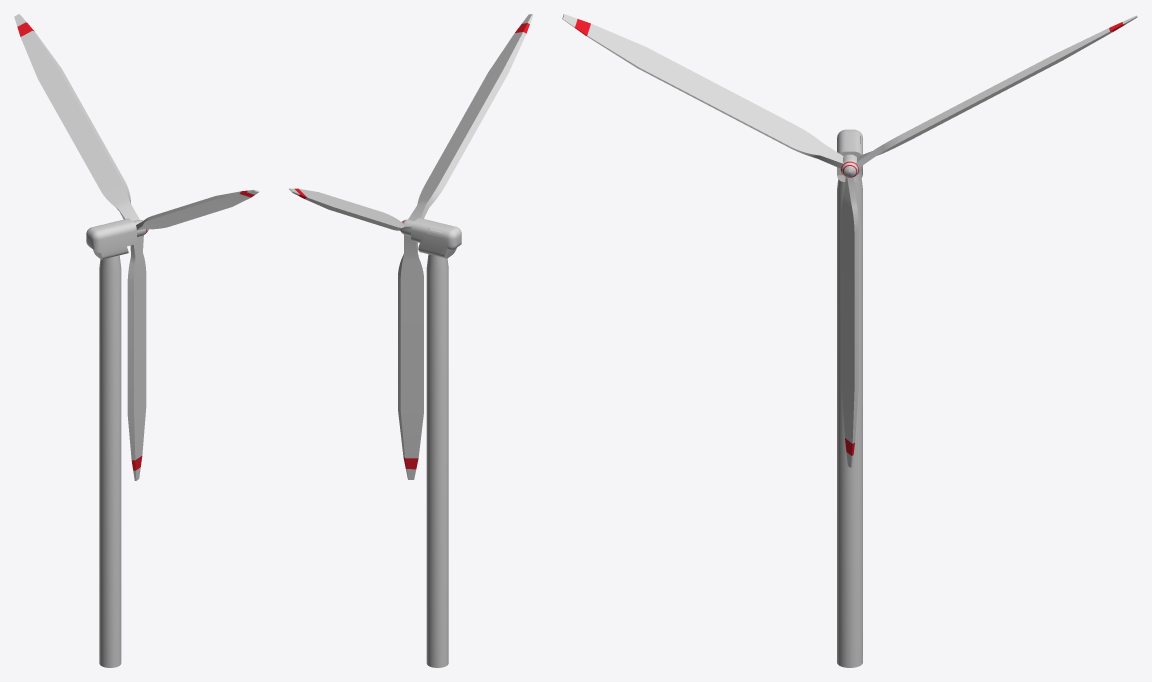
File: wind_turbine.fbx
3 views of the same model, side by side, from view 1: azimuth 30°, elevation 25°; view 2: azimuth 150°, elevation 25°; view 3: azimuth 270°, elevation 25° (orthographic). The views are drawn at different scales.
Visible parts, largest first — view 1: Cube.001, Cylinder, Cube; view 2: Cube.001, Cylinder, Cube; view 3: Cube.001, Cylinder, Cube.
Part boxes in pixels (x1,y1,x2,y2): Cube.001: (14,14,259,480); Cylinder: (99,255,121,667); Cube: (86,218,136,259); Cube.001: (289,14,533,479); Cylinder: (426,254,448,667); Cube: (411,218,461,258); Cube.001: (562,14,1137,467); Cylinder: (837,178,862,667); Cube: (837,129,862,181).
Bounding box in the file's own units: 625 × 5611 × 4413.
